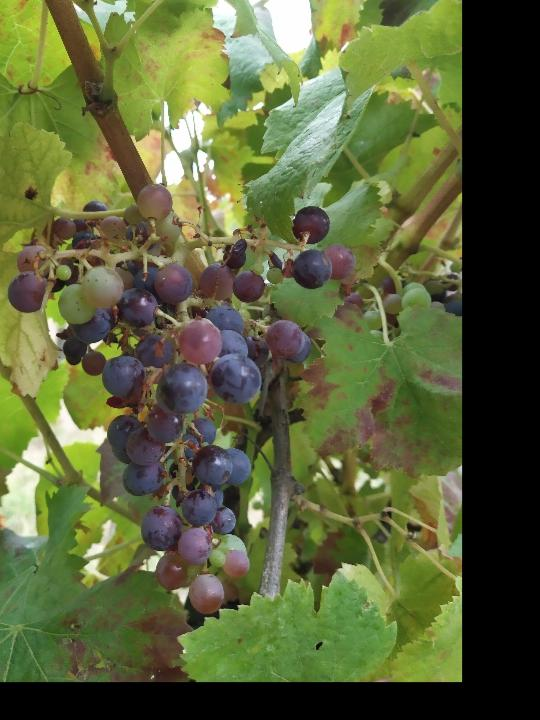grape: (10, 179, 351, 617)
